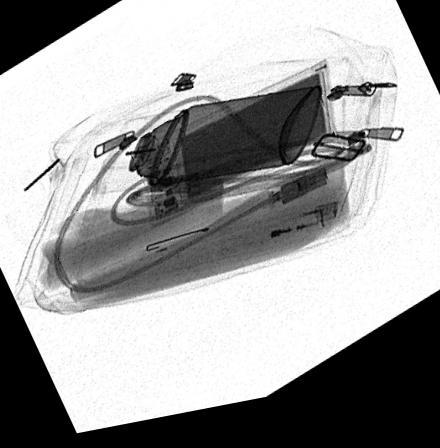Lighter: (156, 213, 340, 281)
Powerbank: (137, 70, 335, 233)
Sprayer: (93, 97, 320, 198)
